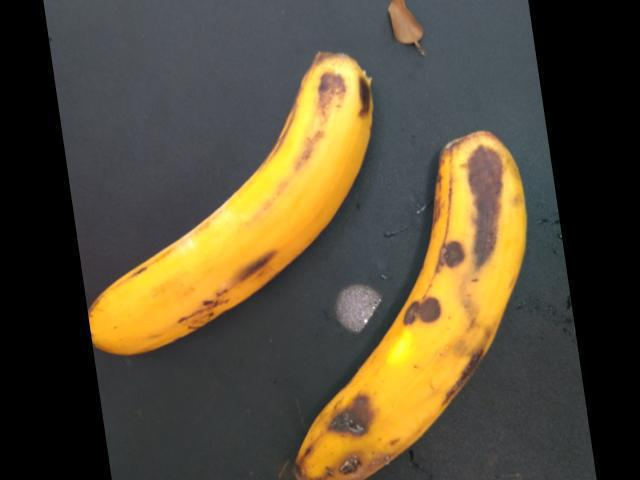overripe: (276, 122, 530, 479)
ripe: (65, 54, 392, 362)
